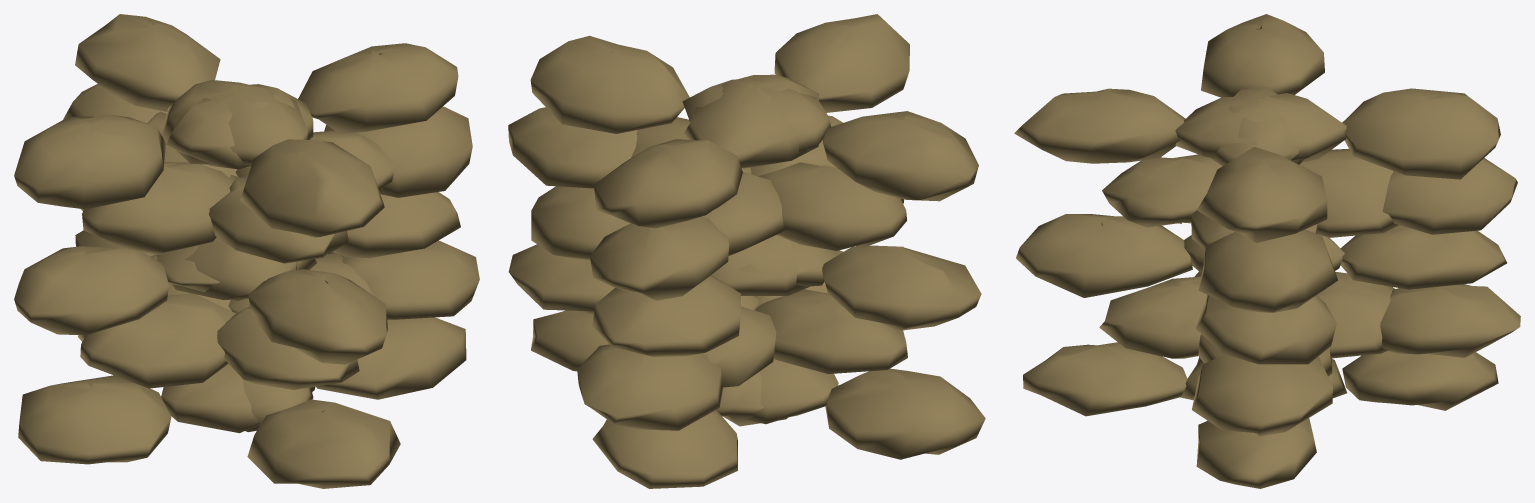
File: sandbag_06.obj
3 views of the same model, side by side, from view 1: azimuth 30°, elevation 25°; view 2: azimuth 150°, elevation 25°; view 3: azimuth 270°, elevation 25° (orthographic). The views are drawn at different scales.
Visible parts, largest first — view 1: sandbag_06; view 2: sandbag_06; view 3: sandbag_06.
Boxes of the visible parts, x1,y1,x2,y2 form: sandbag_06: [14, 14, 479, 488]; sandbag_06: [508, 14, 985, 488]; sandbag_06: [1014, 14, 1520, 488].
Size of the model in its own units: 1.46 by 1 by 1.47.
